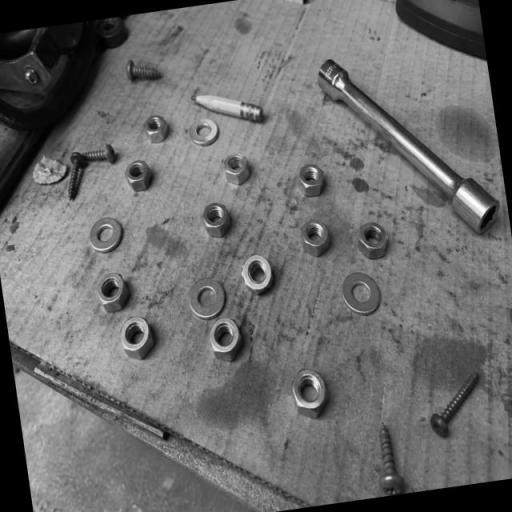Bolt: (430, 372, 480, 438), (378, 425, 404, 497), (72, 143, 116, 165), (68, 151, 85, 201), (127, 60, 163, 83)
Nut: (290, 369, 327, 418), (119, 316, 154, 360), (207, 317, 241, 360), (241, 253, 274, 297), (95, 272, 128, 314), (359, 221, 389, 262), (302, 220, 332, 257), (297, 163, 327, 199), (202, 202, 232, 238), (125, 159, 153, 194), (223, 153, 251, 187), (143, 114, 170, 144)
Washer: (341, 271, 383, 315), (189, 278, 227, 319), (88, 217, 125, 254), (190, 118, 220, 147)
